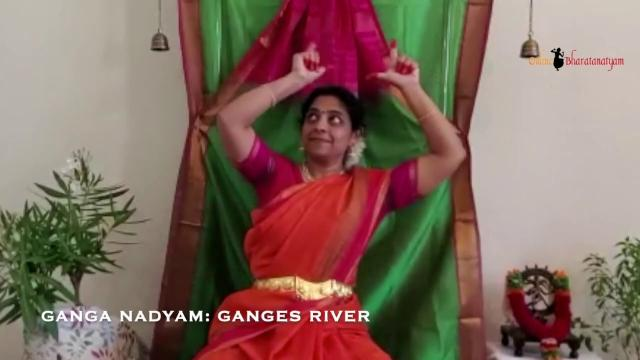chandrakala: (352, 37, 434, 91)
